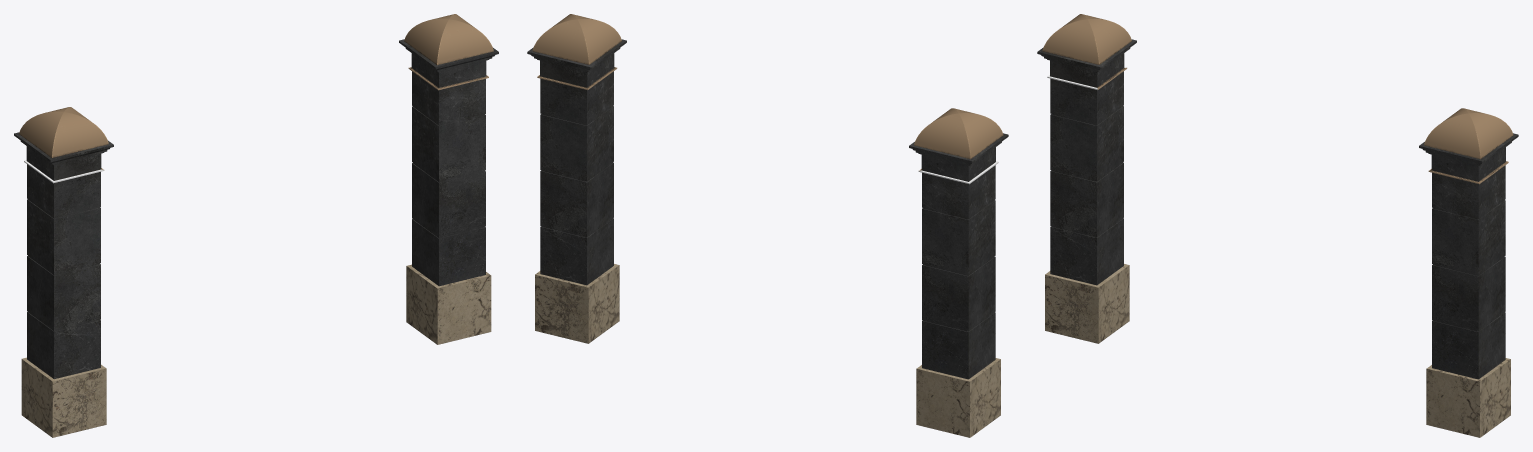
The model's file is campus_gate_posts.glb.
3 renders of one model, left to right at view 1: azimuth 30°, elevation 25°; view 2: azimuth 150°, elevation 25°; view 3: azimuth 330°, elevation 25°, orthographic.
Parts seen in each view (by area): view 1: defaultMaterial (×2); view 2: defaultMaterial (×2); view 3: defaultMaterial (×2).
Boxes of the visible parts, x1=… form: defaultMaterial (×2): x1=14, y1=14, x2=498, y2=437; defaultMaterial (×2): x1=527, y1=14, x2=1008, y2=437; defaultMaterial (×2): x1=1037, y1=14, x2=1518, y2=437.
Size of the model in its own units: 5.6 by 3.68 by 0.8156.
Materials: 2 (2 with a texture image).
